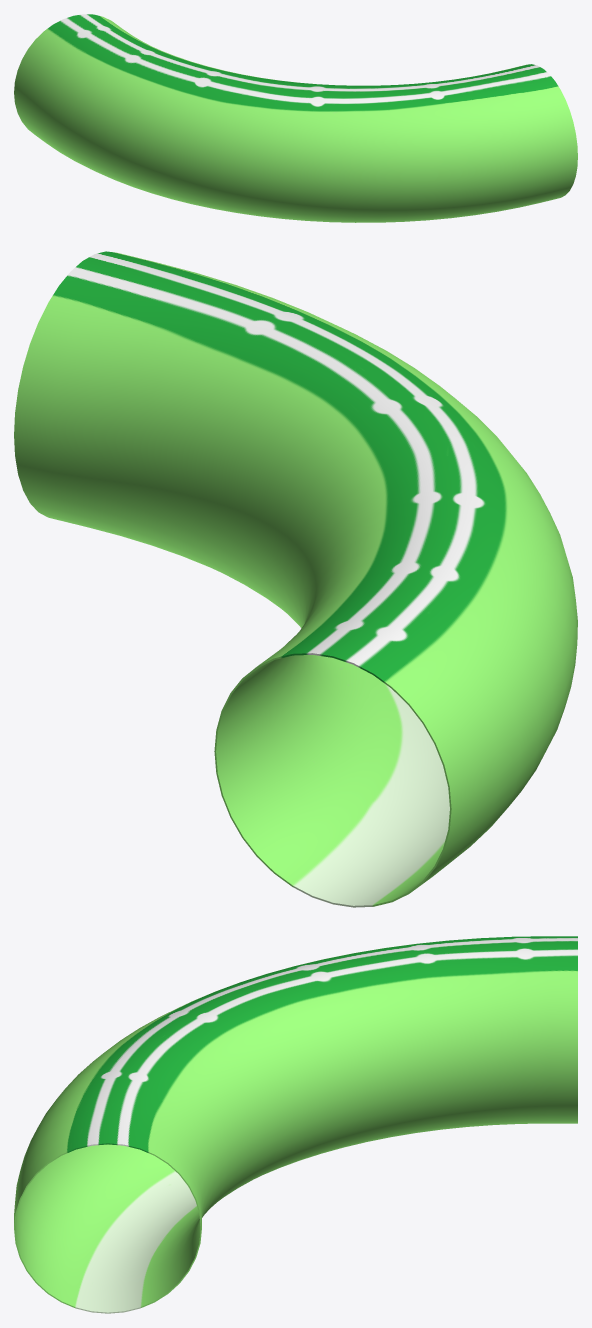
File: Large curve tube.fbx
3 renders of one model, top to bottom at view 1: azimuth 30°, elevation 25°; view 2: azimuth 150°, elevation 25°; view 3: azimuth 270°, elevation 25°, orthographic. The views are drawn at different scales.
Visible parts, largest first — view 1: Large curve tube.001; view 2: Large curve tube.001; view 3: Large curve tube.001.
Boxes of the visible parts, left/top/right/bottom form: Large curve tube.001: left=14, top=14, right=577, bottom=222; Large curve tube.001: left=14, top=251, right=577, bottom=907; Large curve tube.001: left=14, top=936, right=577, bottom=1313.
Size of the model in its own units: 1800 by 600 by 1800.
